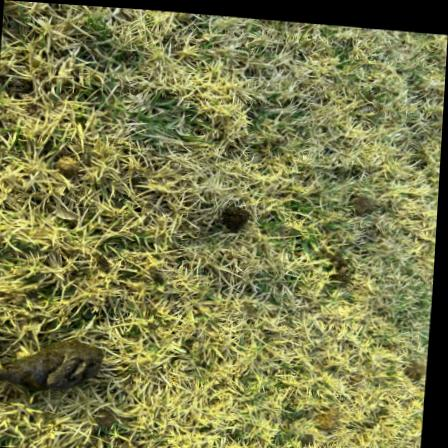dog-poop: (0, 331, 115, 404)
